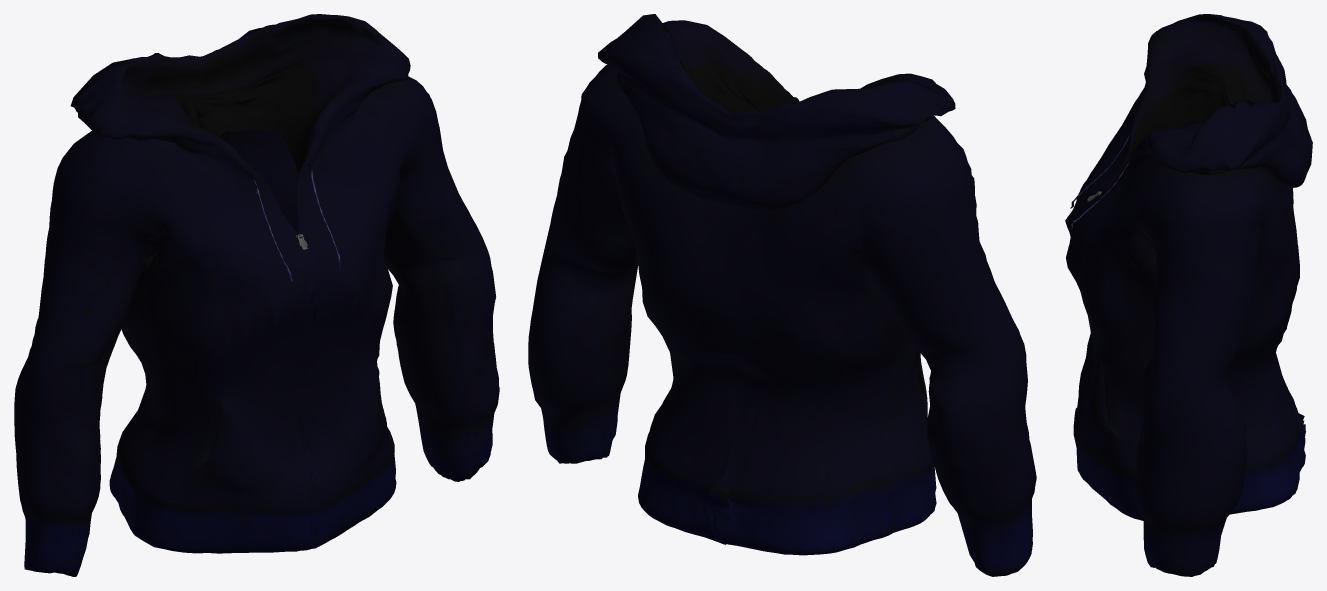
Rendered from elvs-hooded-sweat-jacket1.glb.
The picture shows the model from 3 angles, left to right: view 1: azimuth 30°, elevation 25°; view 2: azimuth 150°, elevation 25°; view 3: azimuth 270°, elevation 25°; orthographic projection. The views are drawn at different scales.
Visible parts, largest first — view 1: Human.elvs_hooded_sweat_jacket1; view 2: Human.elvs_hooded_sweat_jacket1; view 3: Human.elvs_hooded_sweat_jacket1.
Boxes of the visible parts, x1,y1,x2,y2 form: Human.elvs_hooded_sweat_jacket1: (14, 14, 499, 576); Human.elvs_hooded_sweat_jacket1: (528, 14, 1036, 576); Human.elvs_hooded_sweat_jacket1: (1065, 14, 1312, 576).
Size of the model in its own units: 0.7558 by 0.7176 by 0.3781.
Materials: 1 (1 with a texture image).
